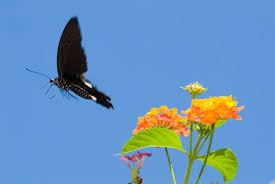Butterfly: (24, 15, 114, 111)
